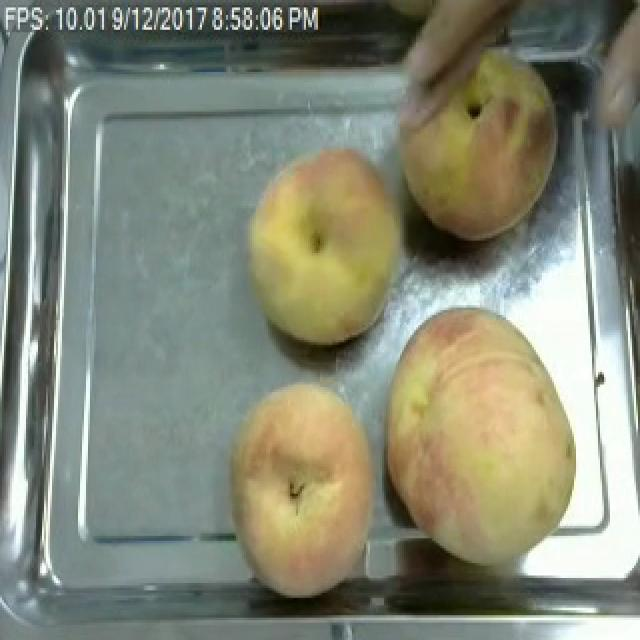Fruit: (370, 298, 588, 576), (218, 370, 396, 610), (384, 29, 574, 250), (238, 139, 416, 352)
